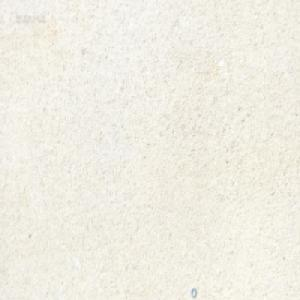Washer: (191, 286, 197, 298)
